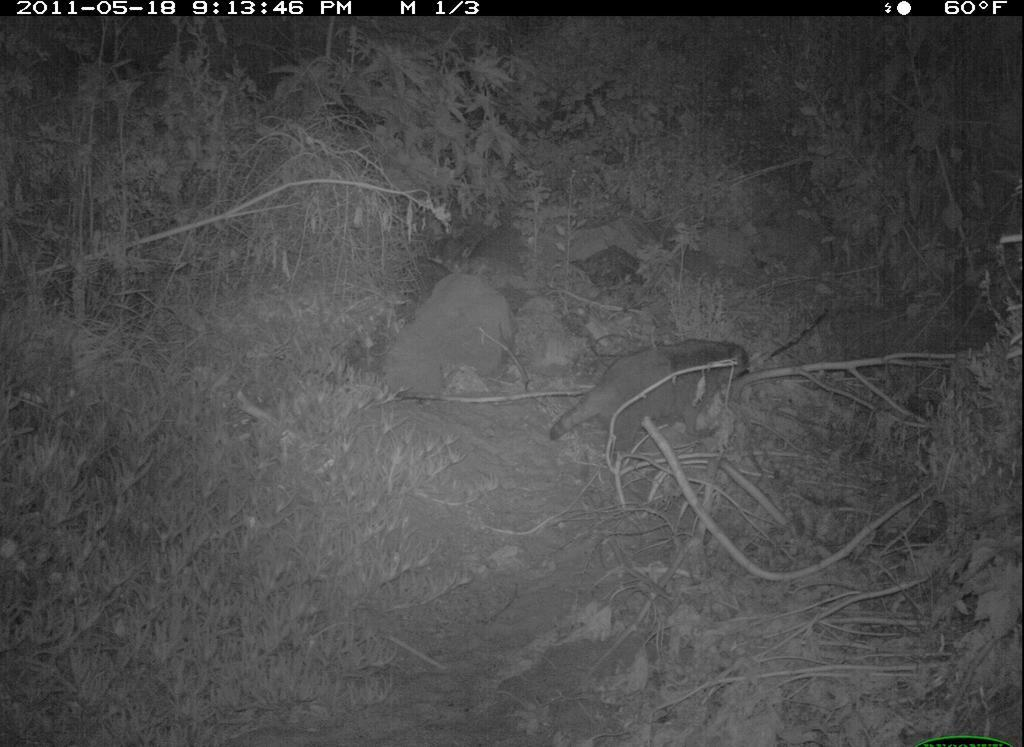raccoon: (545, 337, 756, 468)
